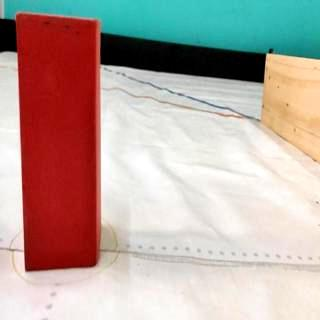redbox: (16, 12, 103, 270)
